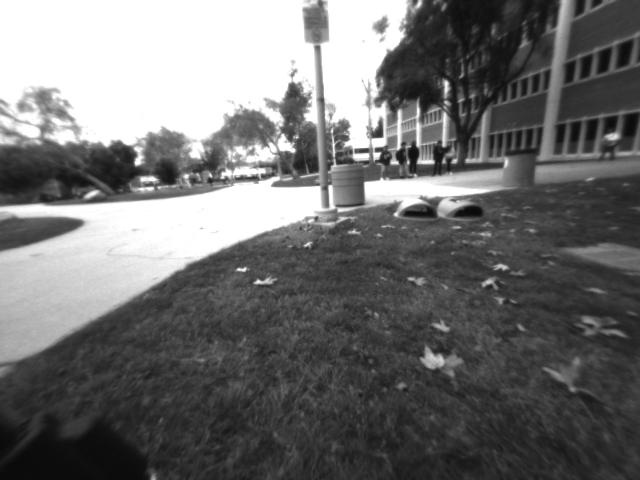trashcan: (326, 155, 371, 212), (498, 140, 543, 192)
